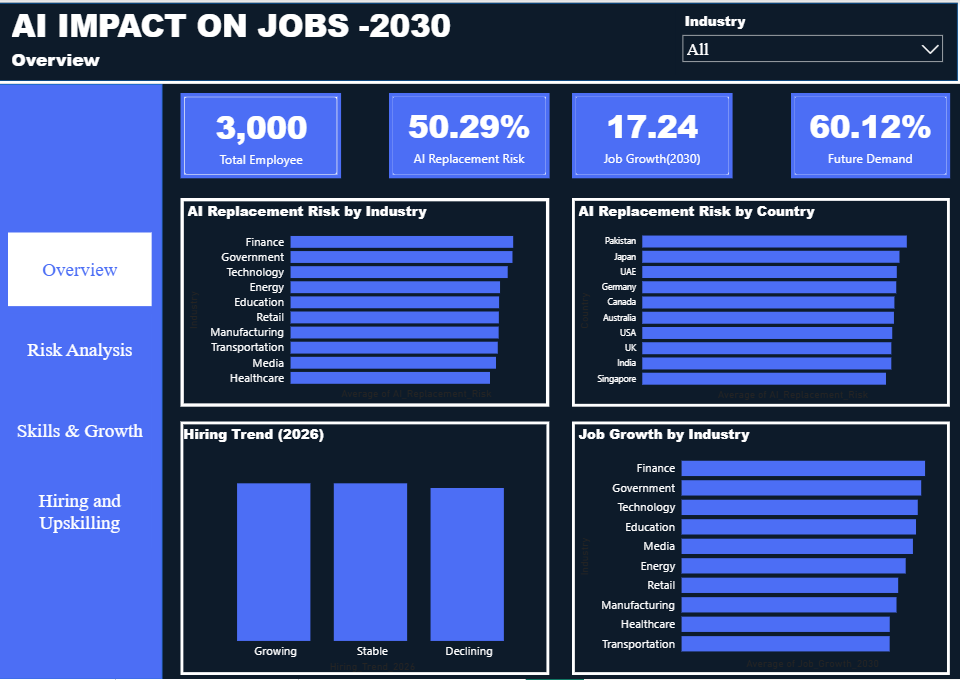

This screenshot's page, from the dashboard's own definition file:
{"tool":"powerbi","page":{"name":"Overview","canvas":[1350,950],"ordinal":0},"visuals":[{"type":"shape","box":[0,0,1349.5,117.5],"z":0},{"type":"cardVisual","fields":{"Data":["Avg(cleaned_data.AI_Replacement_Risk)"]},"box":[549.9,130.1,224.6,119.6],"z":1000},{"type":"cardVisual","fields":{"Data":["Avg(cleaned_data.Job_Growth_2030)"]},"box":[805.9,130.1,224.6,119.6],"z":2000},{"type":"cardVisual","fields":{"Data":["Avg(cleaned_data.Future_Demand_Score)"]},"box":[1112.3,130.1,222.5,119.6],"z":3000},{"type":"clusteredBarChart","title":"AI Replacement Risk by Industry","fields":{"Category":["cleaned_data.Industry"],"Y":["Avg(cleaned_data.AI_Replacement_Risk)"]},"box":[258.1,277,516.3,291.7],"z":4000},{"type":"clusteredBarChart","title":"AI Replacement Risk by Country","fields":{"Category":["cleaned_data.Country"],"Y":["Avg(cleaned_data.AI_Replacement_Risk)"]},"box":[805.9,277,528.9,291.7],"z":5000},{"type":"clusteredColumnChart","title":"Hiring Trend (2026)","fields":{"Category":["cleaned_data.Hiring_Trend_2026"],"Y":["CountNonNull(cleaned_data.Employee_ID)"]},"box":[258.1,589.7,516.3,354.7],"z":6000},{"type":"clusteredBarChart","title":"Job Growth by Industry","fields":{"Category":["cleaned_data.Industry"],"Y":["Avg(cleaned_data.Job_Growth_2030)"]},"box":[805.9,589.7,528.9,354.7],"z":7000},{"type":"slicer","fields":{"Values":["cleaned_data.Industry"]},"box":[950.7,10.5,384.1,94.4],"z":8000},{"type":"cardVisual","fields":{"Data":["Count(cleaned_data.Employee_ID)"]},"box":[258.1,130.1,224.6,119.6],"z":9000},{"type":"shape","box":[0,117.5,233,833.2],"z":10000},{"type":"pageNavigator","box":[16.8,325.3,201.5,442.8],"z":11000},{"type":"textbox","box":[16.8,0,902.5,117.5],"z":12000}]}

Visuals, with their boxes in screenshot pixels (x1, y1, x2, y2), scaled from the page's 1350x950 canvas onto the 960x680 screenshot:
shape: bbox=(0, 0, 959, 84)
cardVisual - Avg(cleaned_data.AI_Replacement_Risk): bbox=(391, 93, 551, 179)
cardVisual - Avg(cleaned_data.Job_Growth_2030): bbox=(573, 93, 733, 179)
cardVisual - Avg(cleaned_data.Future_Demand_Score): bbox=(791, 93, 949, 179)
"AI Replacement Risk by Industry" clusteredBarChart: bbox=(184, 198, 551, 407)
"AI Replacement Risk by Country" clusteredBarChart: bbox=(573, 198, 949, 407)
"Hiring Trend (2026)" clusteredColumnChart: bbox=(184, 422, 551, 676)
"Job Growth by Industry" clusteredBarChart: bbox=(573, 422, 949, 676)
slicer - cleaned_data.Industry: bbox=(676, 8, 949, 75)
cardVisual - Count(cleaned_data.Employee_ID): bbox=(184, 93, 343, 179)
shape: bbox=(0, 84, 166, 679)
pageNavigator: bbox=(12, 233, 155, 550)
textbox: bbox=(12, 0, 654, 84)
